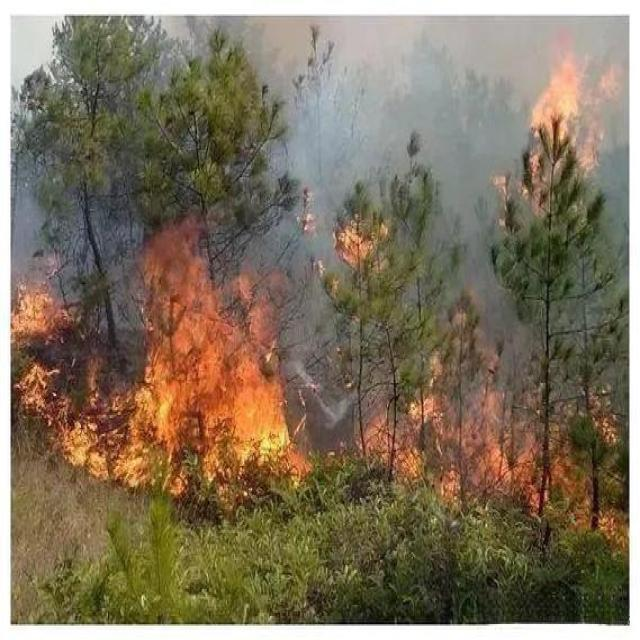Fire: (128, 234, 300, 496), (25, 355, 128, 483), (529, 58, 587, 130), (9, 284, 62, 340)
